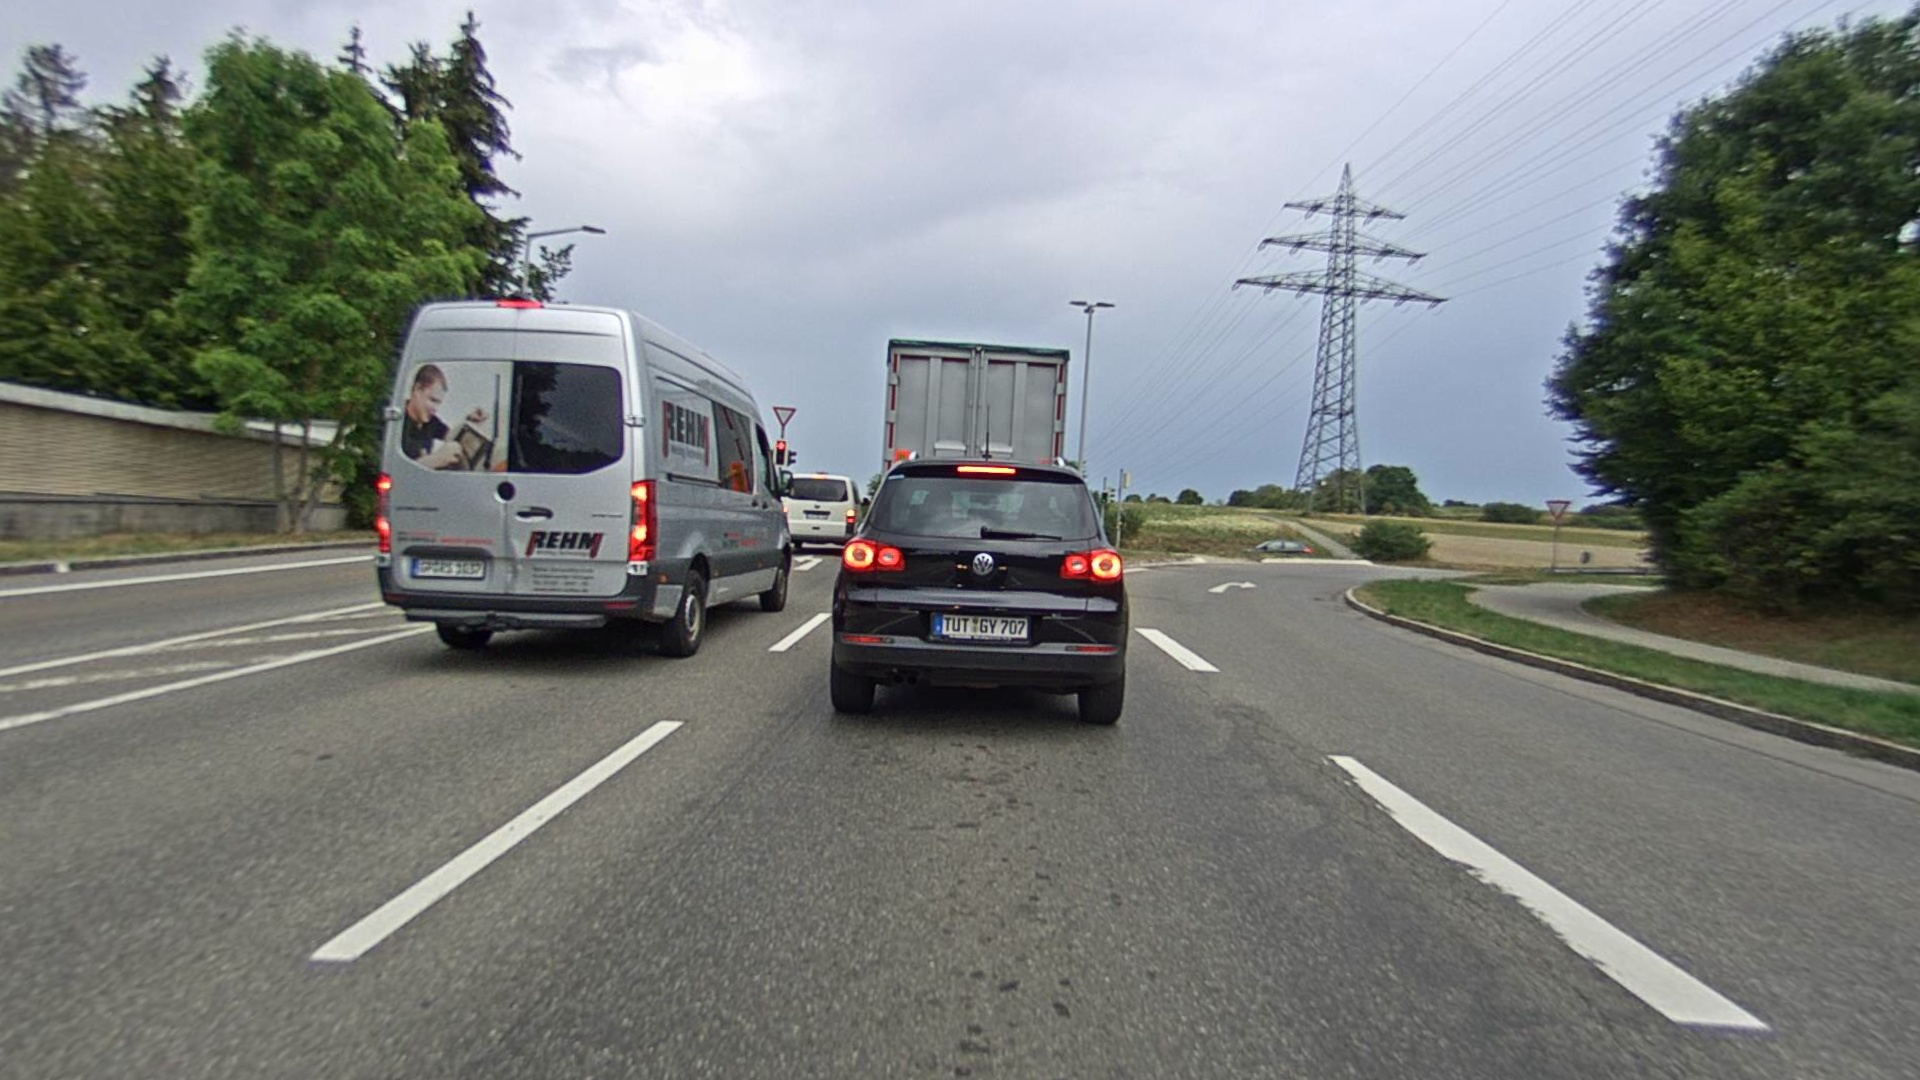car: (827, 456, 1131, 738)
truck: (367, 298, 799, 665)
